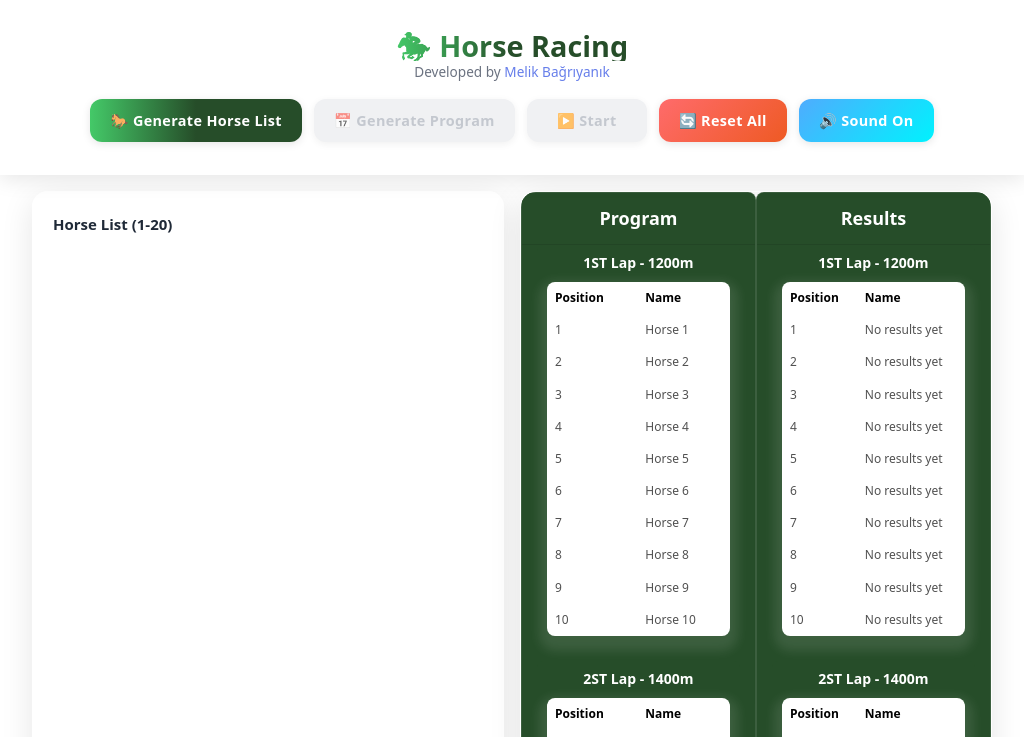
Test: Horse Racing E2E Testleri › Reset Fonksiyonu › Reset All butonu yarışı sıfırlamalı
Click the button "🐎 Generate Horse List".
click(197, 121)  # box [91,99,302,142]
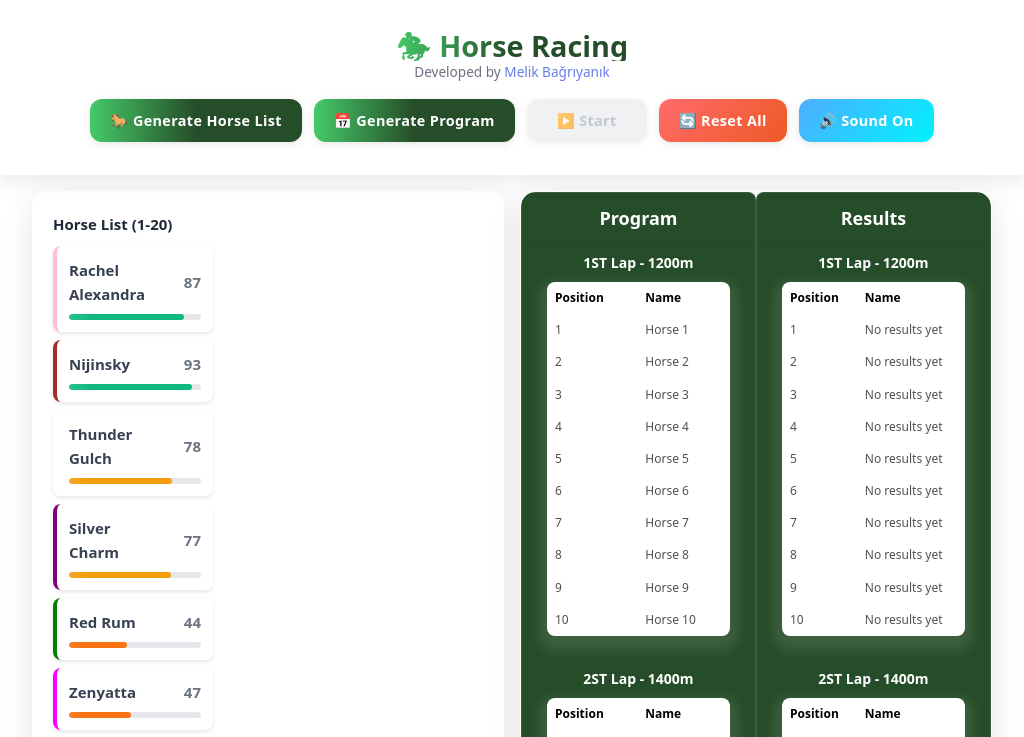
Click the button "📅 Generate Program".
click(415, 121)  # box [314,99,515,142]
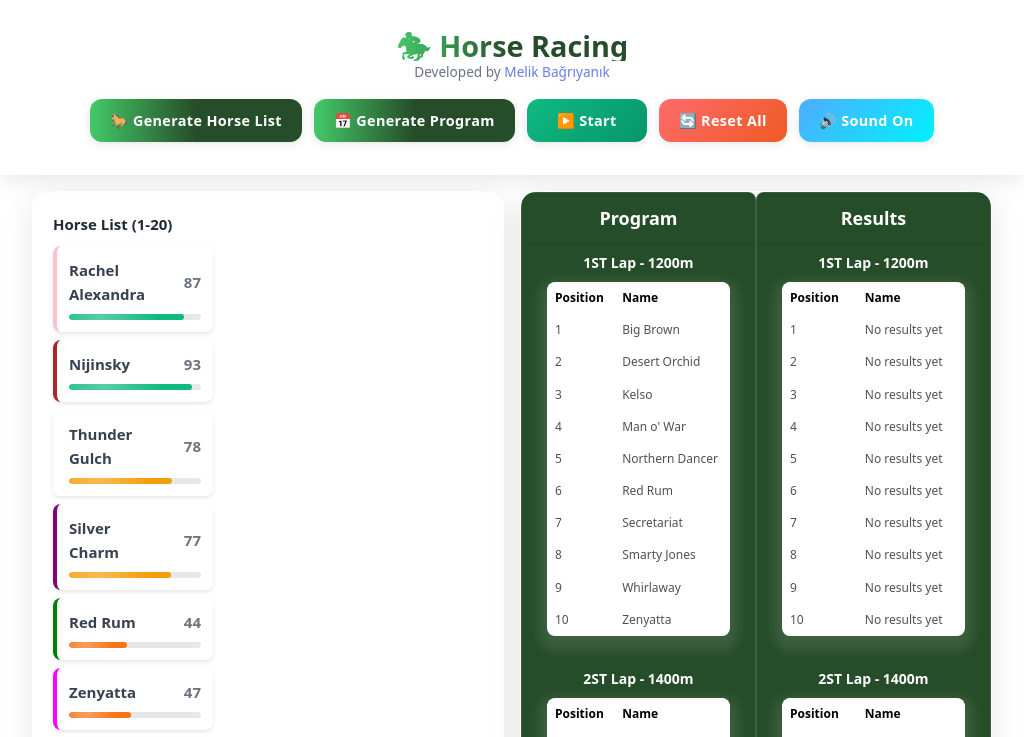
Click the button "▶️ Start".
click(587, 121)  # box [527,99,647,142]
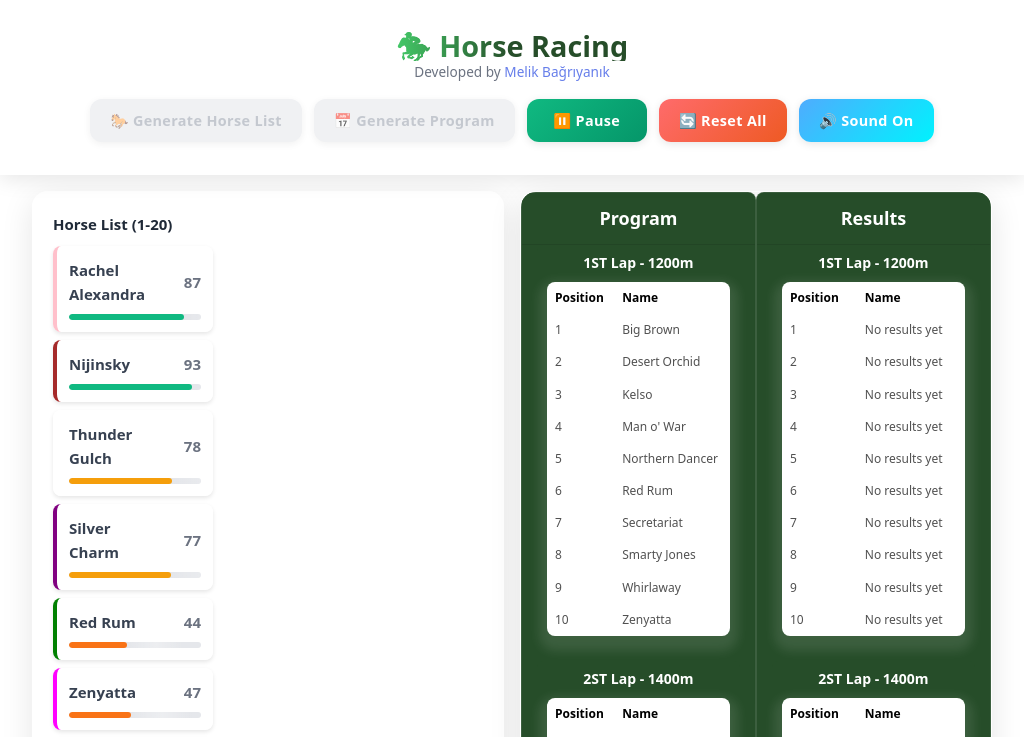
Now the button "⏸️ Pause" is shown, box [527,98,647,142]
Click the button "🔄 Reset All".
click(723, 121)  # box [659,99,787,142]
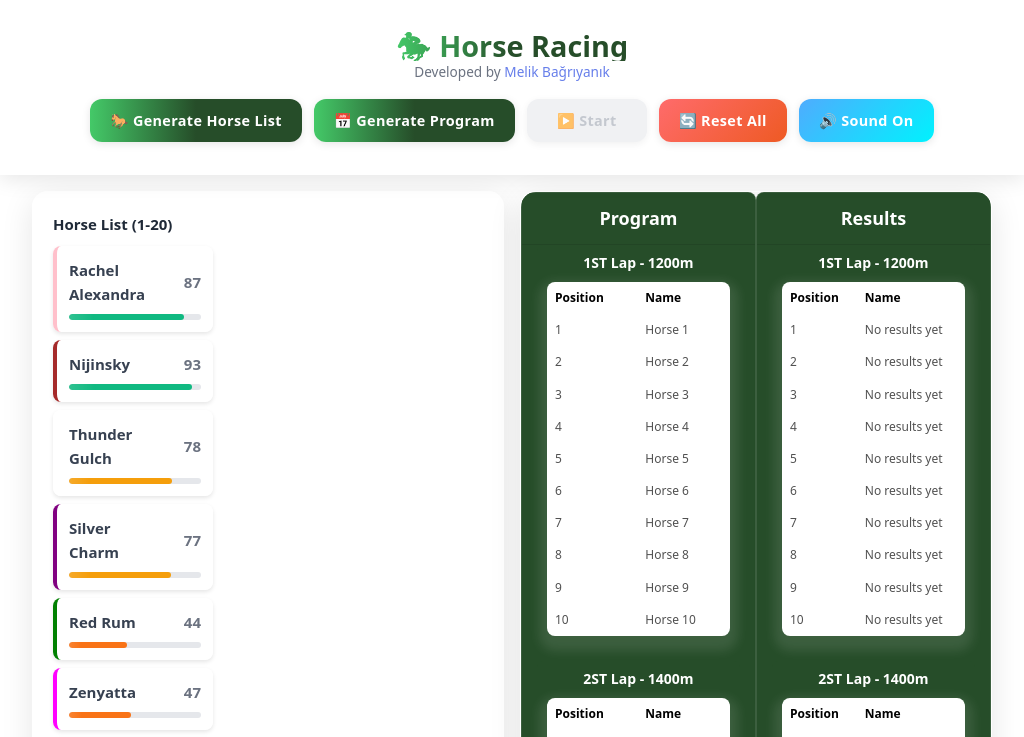
Expected: the button "▶️ Start" is shown, [527,98,647,142]
Now the button "Pause" is gone
